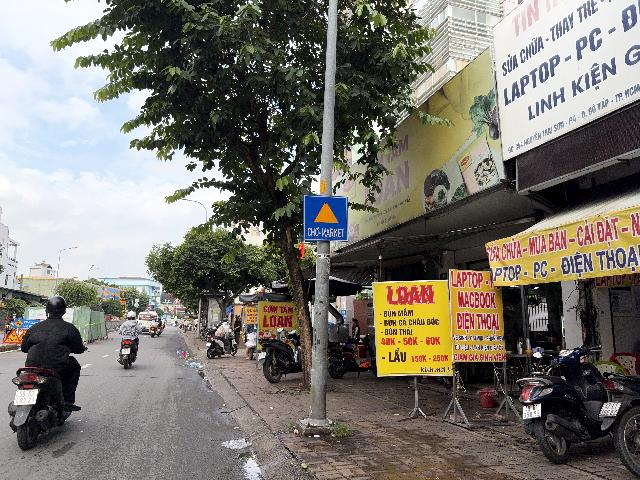khu-vuc-cho-phia-truoc: (303, 194, 349, 242)
